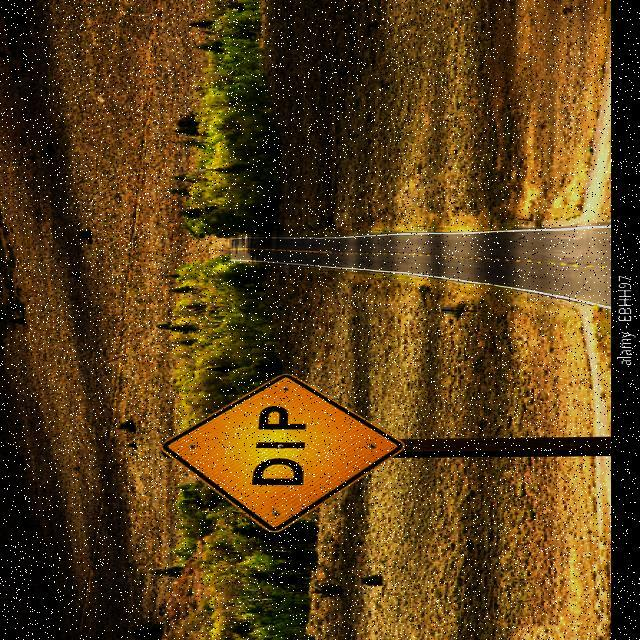Traffic sign: (155, 369, 408, 539)
